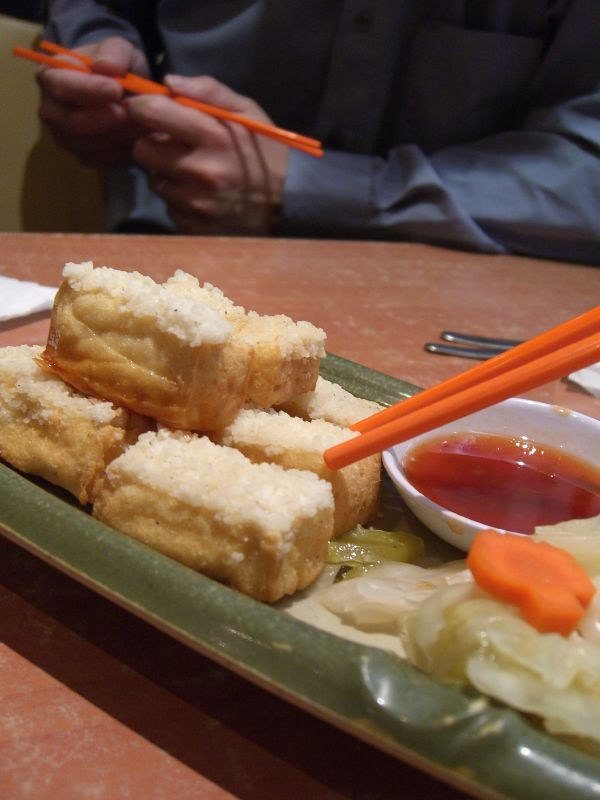Tahu Goreng: (20, 232, 584, 641)
